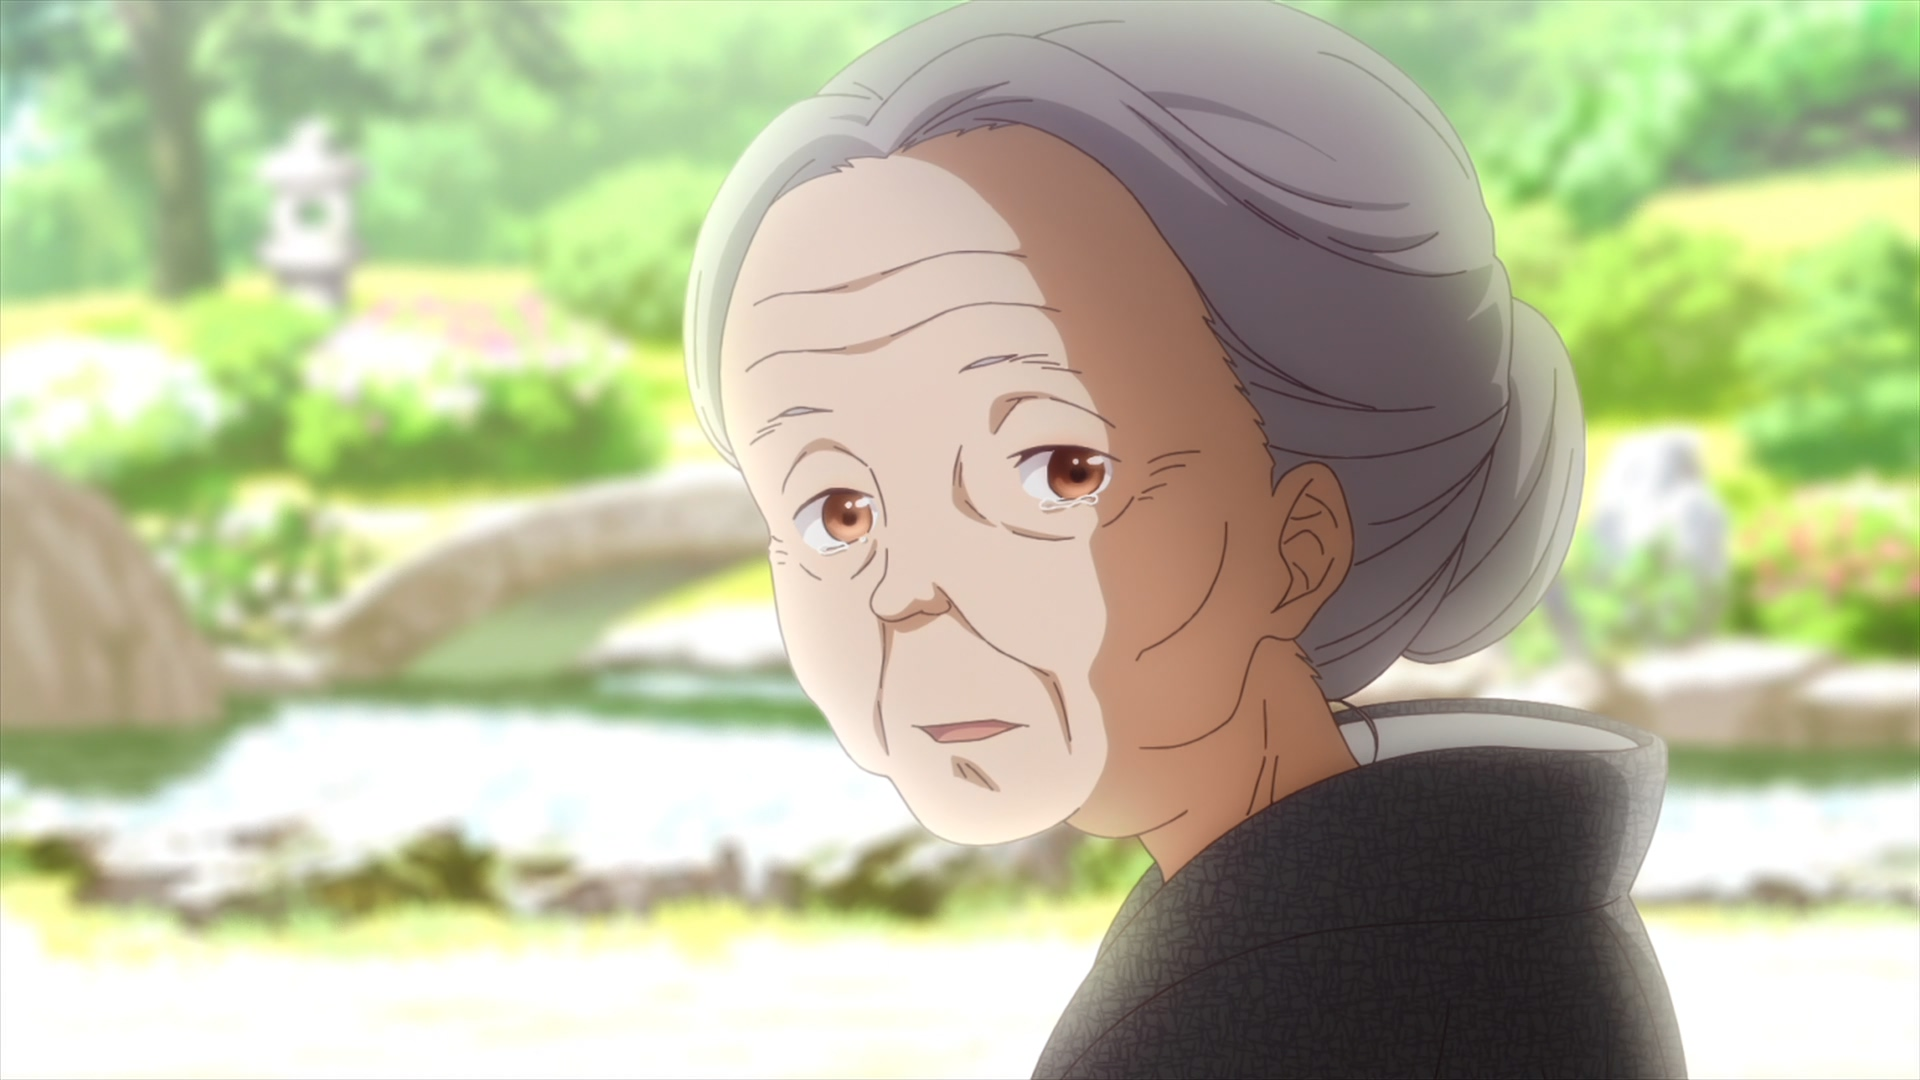其他: (683, 1, 1689, 1080)
